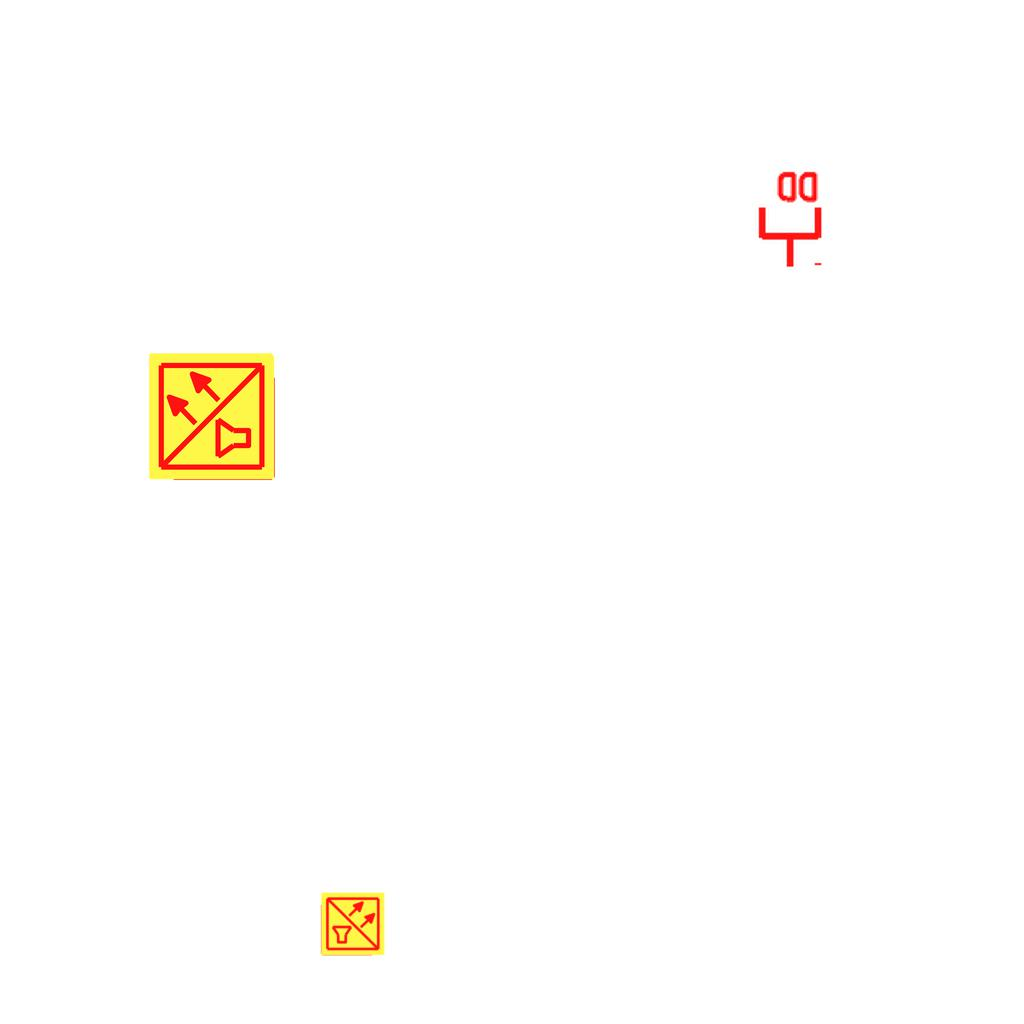Datenanschluss_zweifach: (754, 167, 823, 270)
OKW_Multisensormelder_(Kombination_optischer_Rauch-Kahlenmonoxid_Waerme-Melder): (146, 350, 278, 482), (320, 891, 386, 957)
